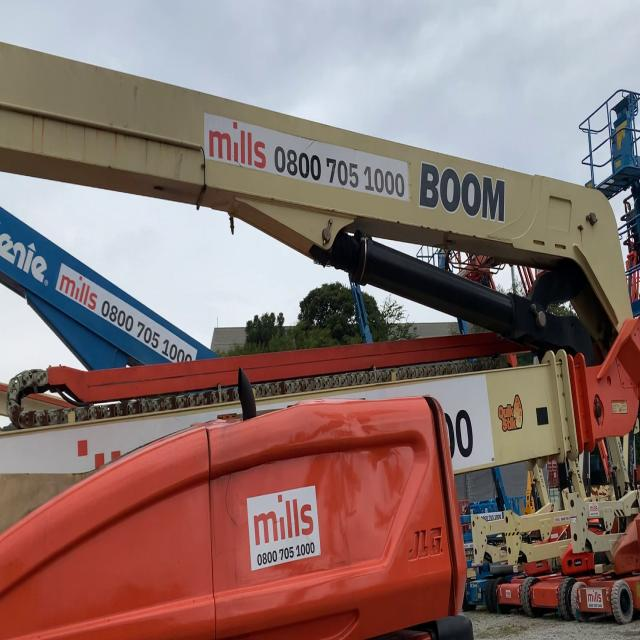Adesivo Longo: (202, 109, 411, 205)
Adesivos: (244, 481, 322, 574)
